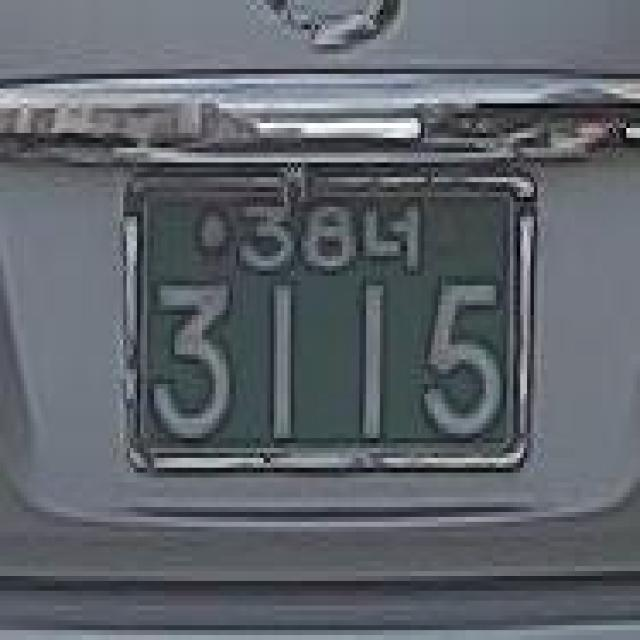illegal_plate: (108, 141, 552, 493)
